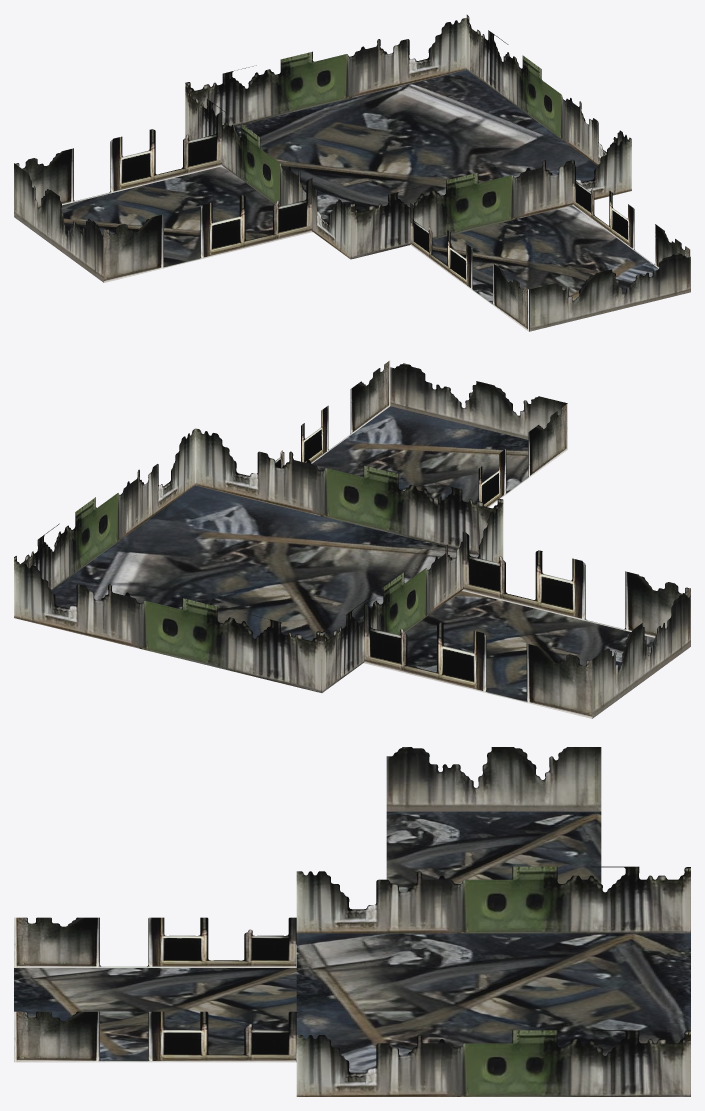
The model's file is s_spotlightcontrol_dam_hdtex.glb.
3 views of the same model, one above another, from view 1: azimuth 30°, elevation 25°; view 2: azimuth 150°, elevation 25°; view 3: azimuth 270°, elevation 25° (orthographic). The views are drawn at different scales.
Visible parts, largest first — view 1: S_SpotlightControl; view 2: S_SpotlightControl; view 3: S_SpotlightControl.
Boxes of the visible parts, bbox=[...] form: S_SpotlightControl: bbox=[14, 15, 690, 331]; S_SpotlightControl: bbox=[14, 360, 690, 718]; S_SpotlightControl: bbox=[14, 747, 690, 1096].
Bounding box in the file's own units: 17.02 × 1.85 × 17.08.
2 materials, 2 textured.
